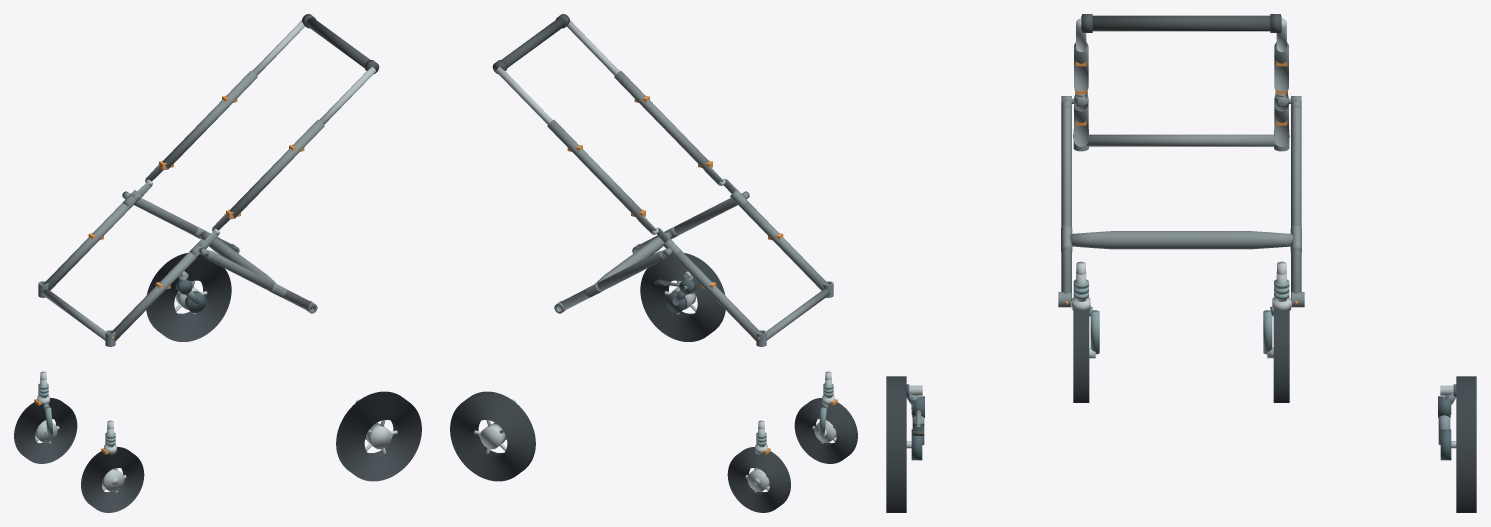
File: w550_state4.glb
The picture shows the model from 3 angles, left to right: view 1: azimuth 30°, elevation 25°; view 2: azimuth 150°, elevation 25°; view 3: azimuth 270°, elevation 25°; orthographic projection. The views are drawn at different scales.
Visible parts, largest first — view 1: RL_tire.005, RR_tire.005, FL_tire.005, FR_tire.005, main_upper_1.006, main_upper_-1.006, main_lower_1.006, main_lower_-1.006, V46_rear_leg_-1.006, round_handle.005, V46_rear_leg_1.006, V46_rearbar.006 (+4 smaller); view 2: RR_tire.005, RL_tire.005, FR_tire.005, FL_tire.005, main_upper_-1.006, main_upper_1.006, main_lower_1.006, main_lower_-1.006, V46_rear_leg_1.006, round_handle.005, V46_rear_leg_-1.006, V46_rearbar.006 (+4 smaller); view 3: V46_rearbar.006, round_handle.005, RL_tire.005, RR_tire.005, front_fixed_round_tube.005, V46_rear_leg_1.006, V46_rear_leg_-1.006, FL_tire.005, FR_tire.005.
Part boxes in pixels (left/top/right/bottom): RL_tire.005: left=336, top=391, right=421, bottom=481; RR_tire.005: left=146, top=253, right=231, bottom=341; FL_tire.005: left=81, top=447, right=144, bottom=512; FR_tire.005: left=14, top=398, right=77, bottom=463; main_upper_1.006: left=162, top=70, right=257, bottom=168; main_upper_-1.006: left=229, top=120, right=324, bottom=218; main_lower_1.006: left=43, top=200, right=135, bottom=290; main_lower_-1.006: left=110, top=252, right=199, bottom=341; V46_rear_leg_-1.006: left=206, top=250, right=312, bottom=310; round_handle.005: left=306, top=17, right=378, bottom=72; V46_rear_leg_1.006: left=134, top=198, right=236, bottom=251; V46_rearbar.006: left=199, top=231, right=276, bottom=283; RR_tire.005: left=450, top=391, right=535, bottom=481; RL_tire.005: left=640, top=253, right=725, bottom=341; FR_tire.005: left=727, top=447, right=790, bottom=512; FL_tire.005: left=794, top=398, right=857, bottom=463; main_upper_-1.006: left=614, top=70, right=709, bottom=168; main_upper_1.006: left=547, top=120, right=642, bottom=218; main_lower_1.006: left=672, top=252, right=761, bottom=341; main_lower_-1.006: left=736, top=200, right=828, bottom=290; V46_rear_leg_1.006: left=559, top=250, right=665, bottom=310; round_handle.005: left=493, top=17, right=565, bottom=72; V46_rear_leg_-1.006: left=635, top=198, right=737, bottom=251; V46_rearbar.006: left=595, top=231, right=672, bottom=283; V46_rearbar.006: left=1070, top=231, right=1292, bottom=249; round_handle.005: left=1081, top=15, right=1281, bottom=31; RL_tire.005: left=886, top=376, right=906, bottom=512; RR_tire.005: left=1456, top=376, right=1476, bottom=512; front_fixed_round_tube.005: left=1087, top=134, right=1275, bottom=146; V46_rear_leg_1.006: left=1291, top=105, right=1301, bottom=300; V46_rear_leg_-1.006: left=1061, top=105, right=1071, bottom=300; FL_tire.005: left=1073, top=308, right=1089, bottom=402; FR_tire.005: left=1273, top=308, right=1289, bottom=402.
Size of the model in its own units: 1.12 by 1.39 by 1.3.
